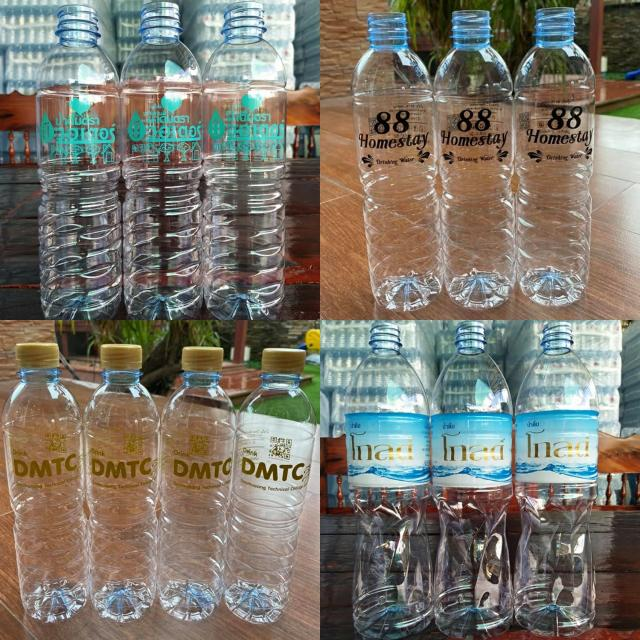plastik: (345, 321, 434, 639), (351, 12, 442, 311), (36, 5, 122, 319), (514, 321, 599, 636), (202, 1, 286, 319), (121, 1, 202, 319), (431, 321, 512, 636), (224, 348, 316, 624), (434, 10, 515, 310), (2, 342, 88, 622), (515, 8, 595, 306), (158, 346, 236, 621), (84, 344, 160, 622)
